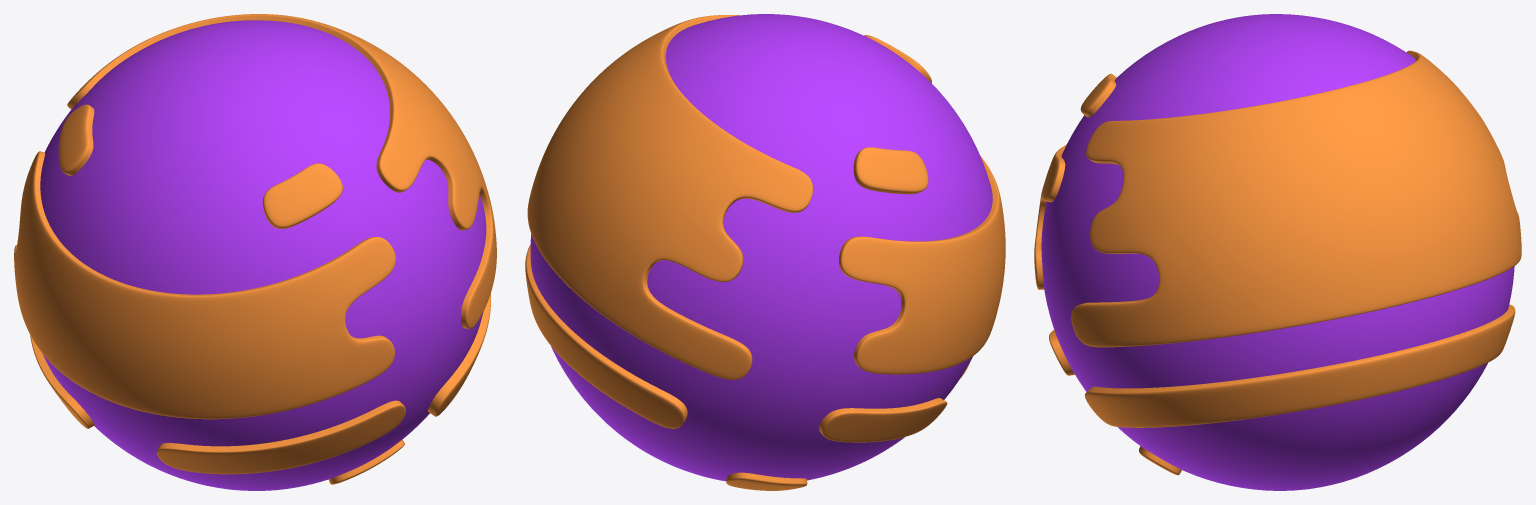
Rendered from planet-2.glb.
3 renders of one model, left to right at view 1: azimuth 30°, elevation 25°; view 2: azimuth 150°, elevation 25°; view 3: azimuth 270°, elevation 25°, orthographic.
Parts seen in each view (by area): view 1: Sphere, Sphere.004, Sphere.003, Sphere.002, Sphere.006, Sphere.001, Sphere.005; view 2: Sphere, Sphere.003, Sphere.004, Sphere.001, Sphere.002, Sphere.006, Sphere.005; view 3: Sphere.003, Sphere, Sphere.001, Sphere.004, Sphere.006.
Boxes of the visible parts, <box> form: Sphere: <box>40,20,486,490</box>; Sphere.004: <box>14,151,395,419</box>; Sphere.003: <box>67,14,496,329</box>; Sphere.002: <box>30,335,405,474</box>; Sphere.006: <box>58,104,342,228</box>; Sphere.001: <box>428,293,490,416</box>; Sphere.005: <box>328,439,404,484</box>; Sphere: <box>530,14,992,481</box>; Sphere.003: <box>527,15,812,379</box>; Sphere.004: <box>839,155,1005,374</box>; Sphere.001: <box>525,244,687,428</box>; Sphere.002: <box>819,362,970,442</box>; Sphere.006: <box>853,35,931,194</box>; Sphere.005: <box>726,472,807,490</box>; Sphere.003: <box>1071,50,1521,347</box>; Sphere: <box>1041,14,1514,490</box>; Sphere.001: <box>1084,304,1515,427</box>; Sphere.004: <box>1034,144,1066,289</box>; Sphere.006: <box>1080,73,1116,117</box>.
Size of the model in its own units: 4.98 by 4.89 by 5.
